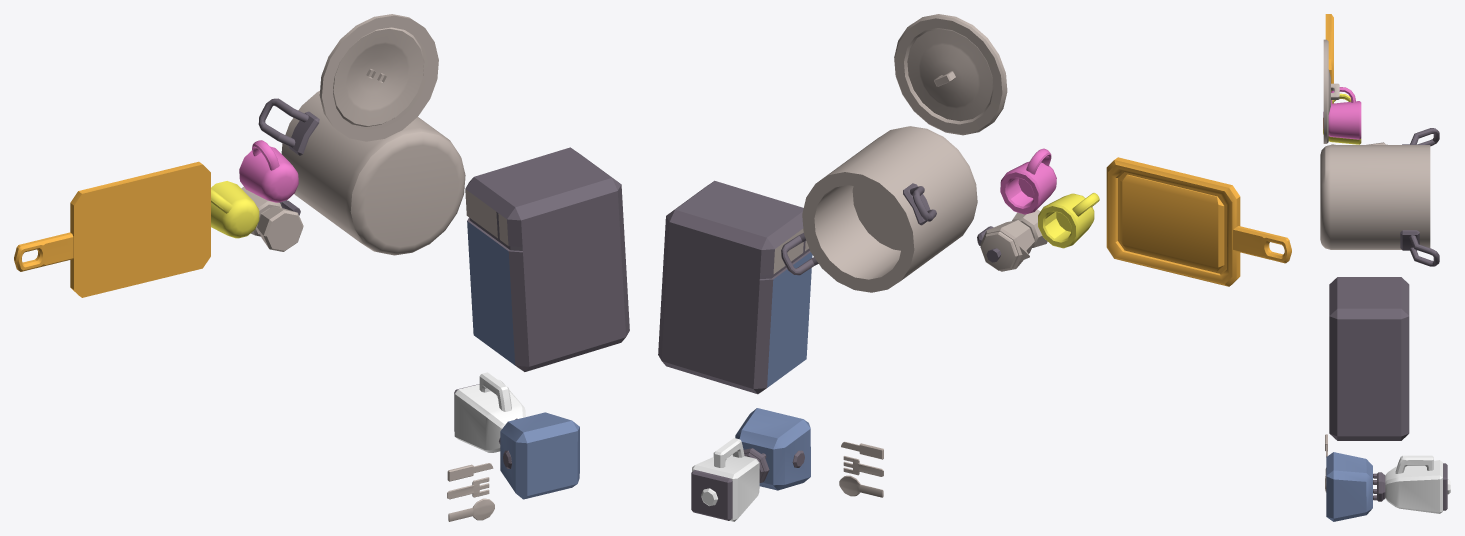
The model's file is elements.fbx.
3 renders of one model, left to right at view 1: azimuth 30°, elevation 25°; view 2: azimuth 150°, elevation 25°; view 3: azimuth 270°, elevation 25°, orthographic. The views are drawn at different scales.
Parts seen in each view (by area): view 1: Cafetera; view 2: Cafetera; view 3: Cafetera.
Part boxes in pixels (left/top/right/bottom): Cafetera: left=14, top=14, right=629, bottom=521; Cafetera: left=658, top=14, right=1291, bottom=521; Cafetera: left=1320, top=14, right=1450, bottom=521.
Bounding box in the file's own units: 1.55 × 1.27 × 0.3685.
Materials: 1 (1 with a texture image).
